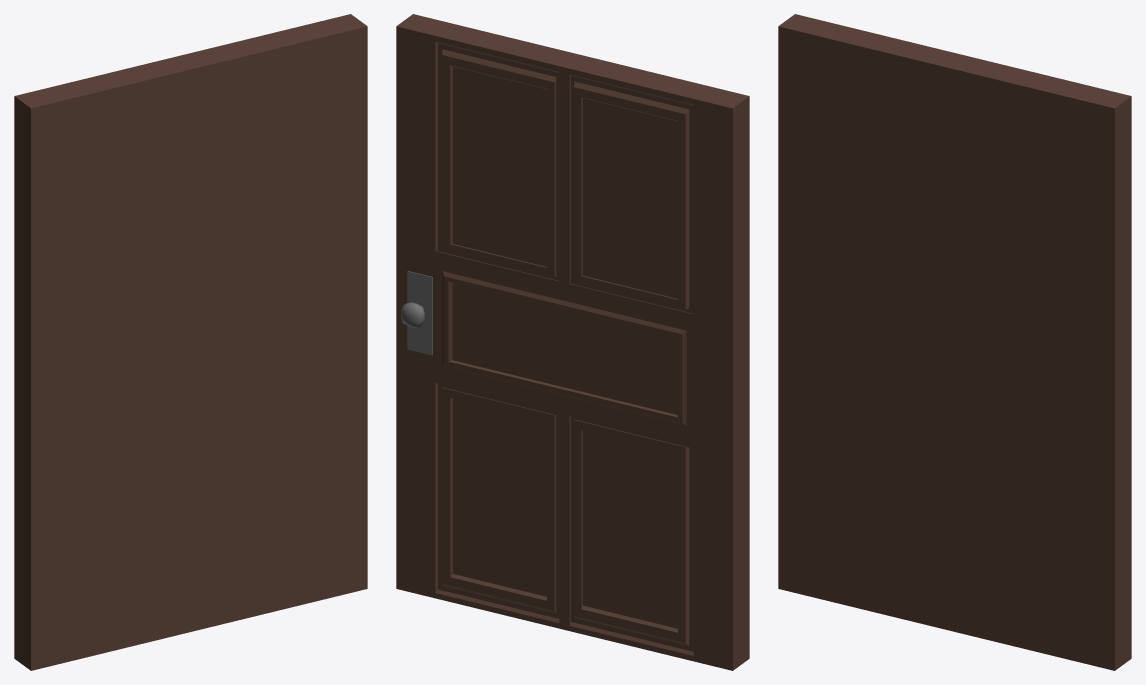
The model's file is door.fbx.
3 renders of one model, left to right at view 1: azimuth 30°, elevation 25°; view 2: azimuth 150°, elevation 25°; view 3: azimuth 330°, elevation 25°, orthographic.
Visible parts, largest first — view 1: door-1; view 2: door-1; view 3: door-1.
Part boxes in pixels (x1,y1,x2,y2): door-1: [14, 14, 367, 670]; door-1: [396, 14, 749, 670]; door-1: [778, 14, 1131, 670].
Size of the model in its own units: 1.93 by 3.09 by 0.2902.
